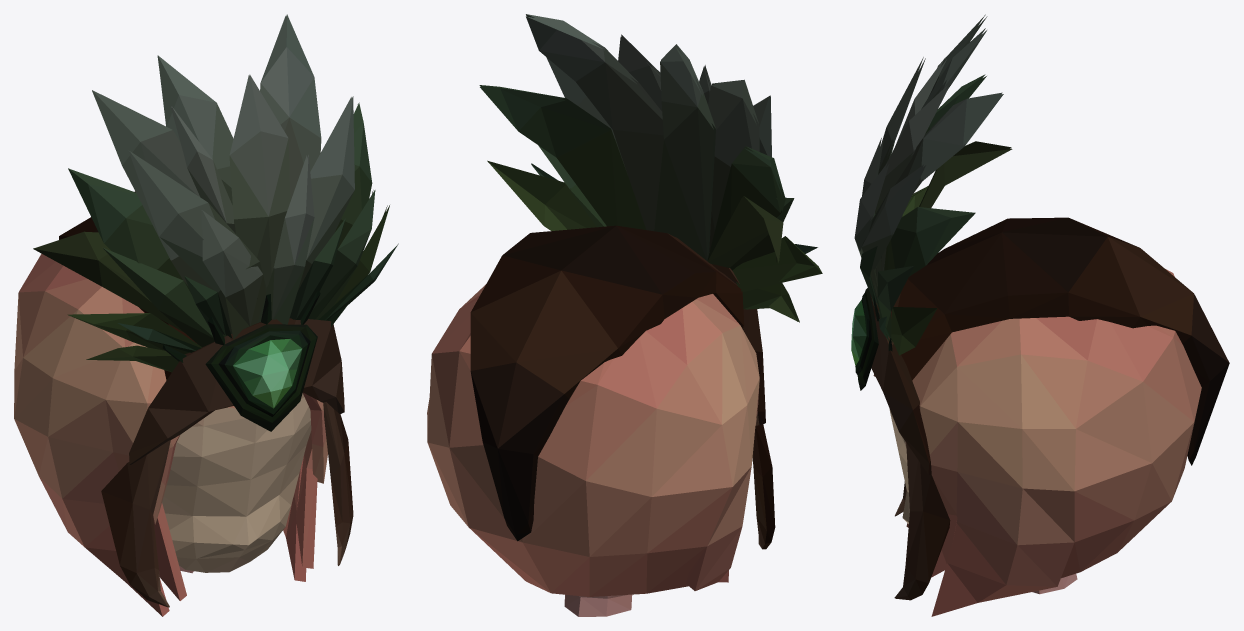
File: helm_lightskin_bob_blonde_headress.fbx
3 views of the same model, side by side, from view 1: azimuth 30°, elevation 25°; view 2: azimuth 150°, elevation 25°; view 3: azimuth 270°, elevation 25° (orthographic). The views are drawn at different scales.
Parts seen in each view (by area): view 1: helm_lightskin_bob_blonde_headress; view 2: helm_lightskin_bob_blonde_headress; view 3: helm_lightskin_bob_blonde_headress.
Part boxes in pixels (x1,y1,x2,y2): helm_lightskin_bob_blonde_headress: [14, 14, 398, 616]; helm_lightskin_bob_blonde_headress: [427, 14, 822, 616]; helm_lightskin_bob_blonde_headress: [851, 14, 1229, 616].
Bounding box in the file's own units: 1.29 × 2.07 × 1.32.
